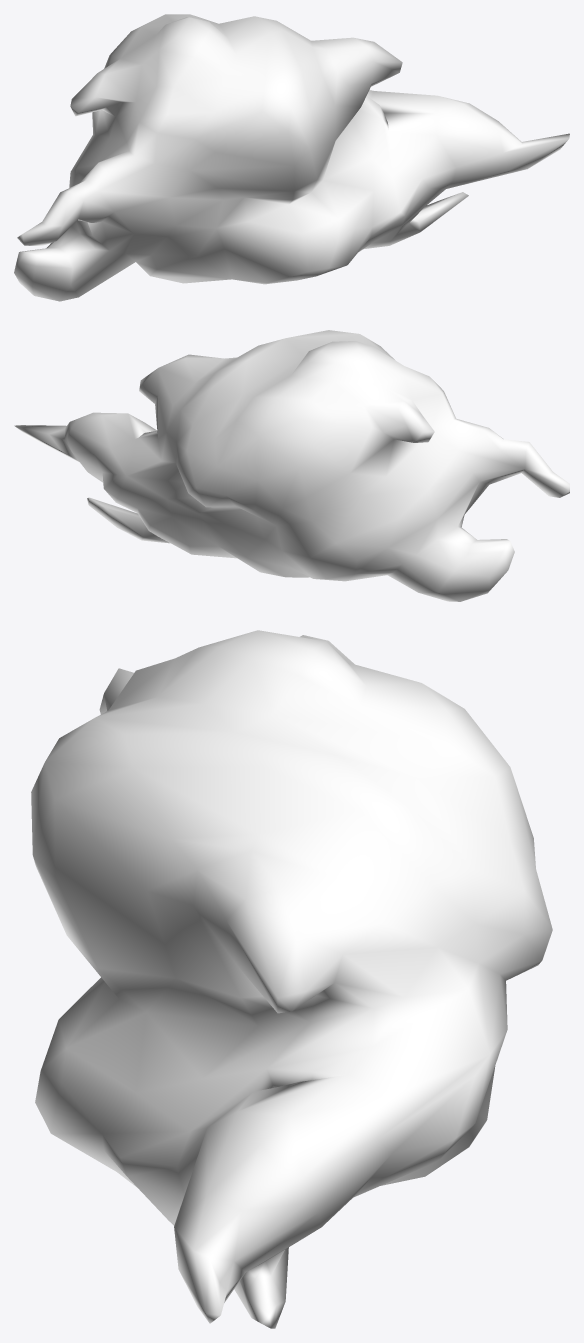
File: Cloud7.fbx
3 views of the same model, one above another, from view 1: azimuth 30°, elevation 25°; view 2: azimuth 150°, elevation 25°; view 3: azimuth 270°, elevation 25° (orthographic). The views are drawn at different scales.
Visible parts, largest first — view 1: Cloud7; view 2: Cloud7; view 3: Cloud7.
Boxes of the visible parts, <box> form: Cloud7: <box>14,14,569,301</box>; Cloud7: <box>14,330,569,601</box>; Cloud7: <box>31,630,552,1328</box>.
Size of the model in its own units: 862 by 375 by 365.
Materials: 1 (1 with a texture image).
